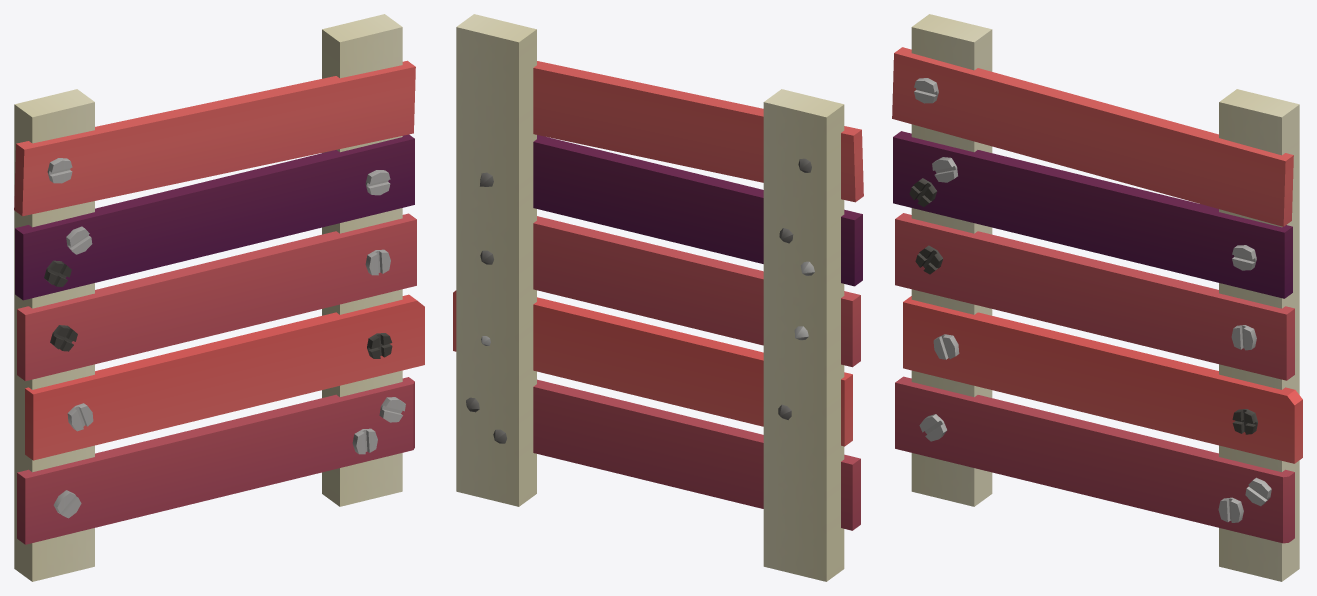
File: PlantPot_WoodenRack.fbx
The picture shows the model from 3 angles, left to right: view 1: azimuth 30°, elevation 25°; view 2: azimuth 150°, elevation 25°; view 3: azimuth 330°, elevation 25°; orthographic projection.
Parts seen in each view (by area): view 1: PlantPot_WoodenRack; view 2: PlantPot_WoodenRack; view 3: PlantPot_WoodenRack.
Part boxes in pixels (x1=…): PlantPot_WoodenRack: x1=14, y1=14, x2=424, y2=581; PlantPot_WoodenRack: x1=453, y1=14, x2=863, y2=581; PlantPot_WoodenRack: x1=892, y1=14, x2=1302, y2=581.
Size of the model in its own units: 101 by 112 by 14.99.
